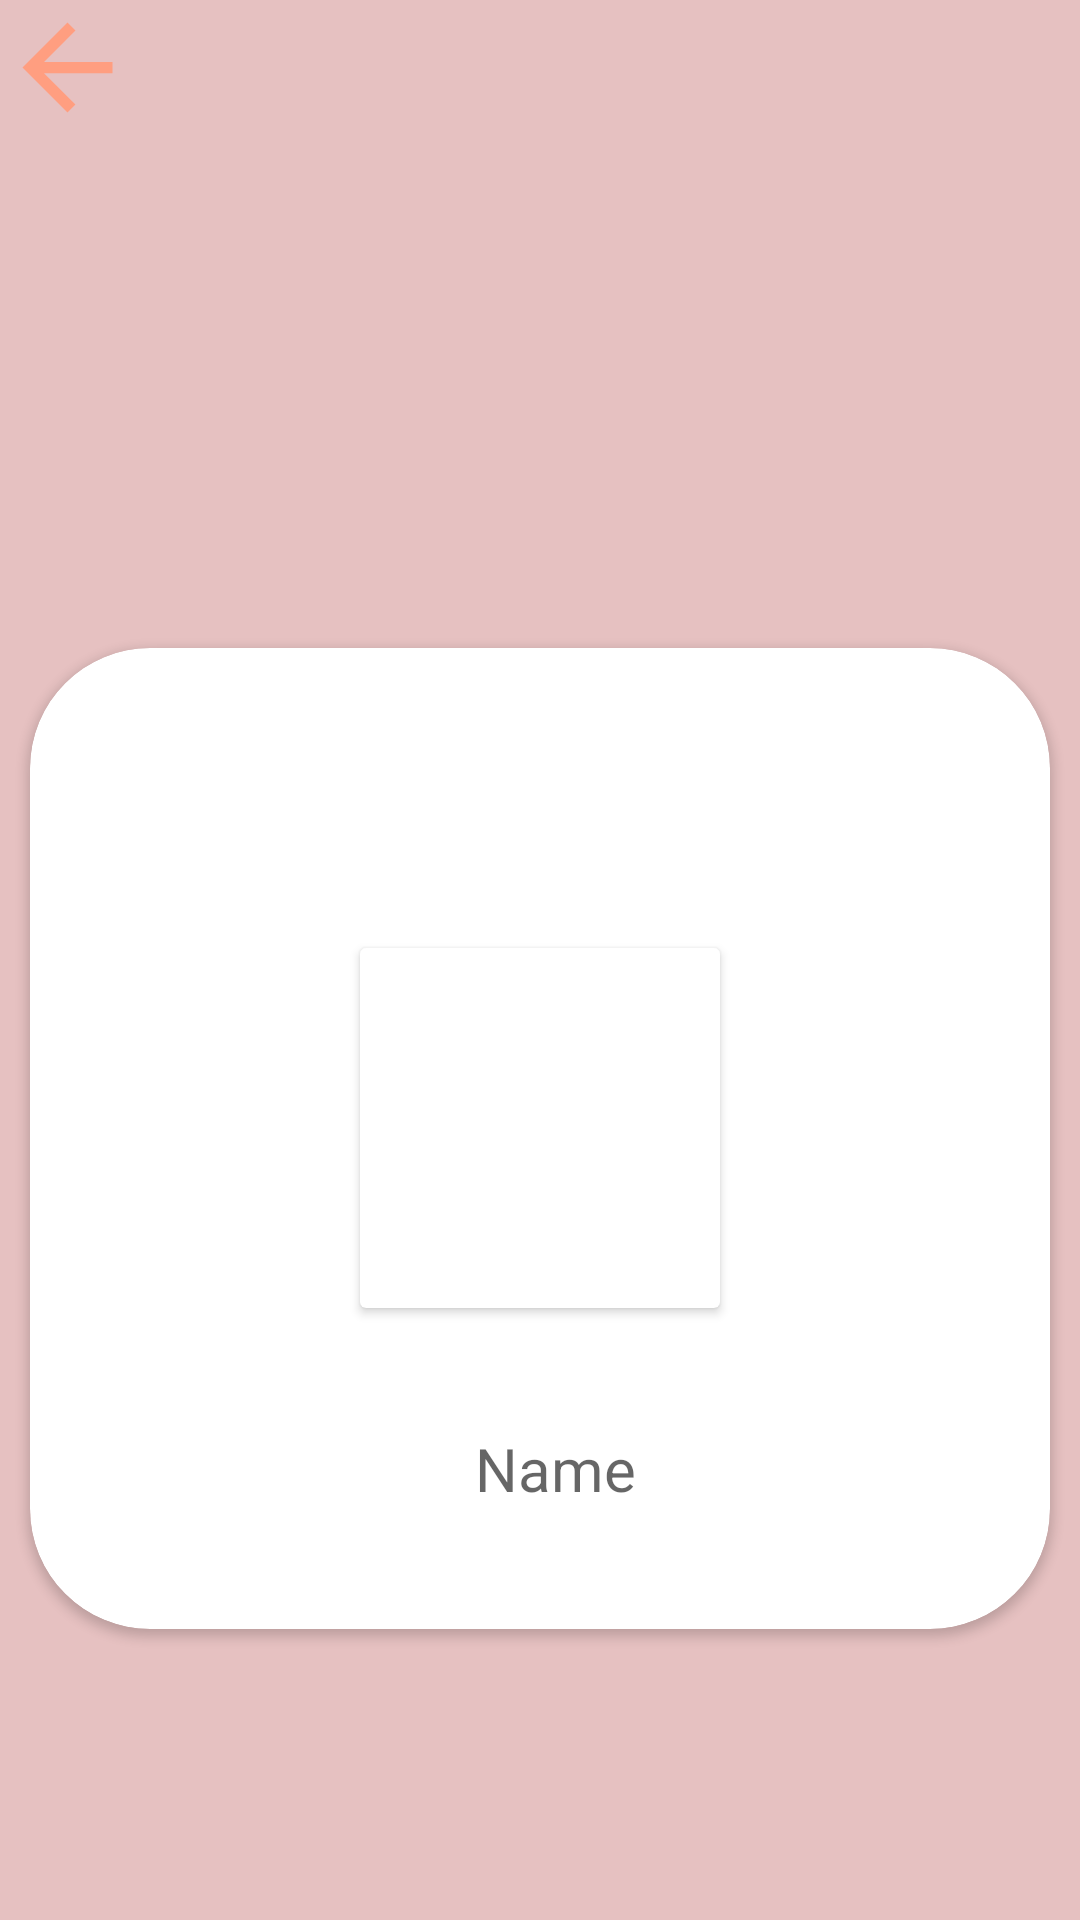

Icon click points for this 1080x1920 phone screenshot, format (x=x, y=y):
arrow back: (x=68, y=67)
